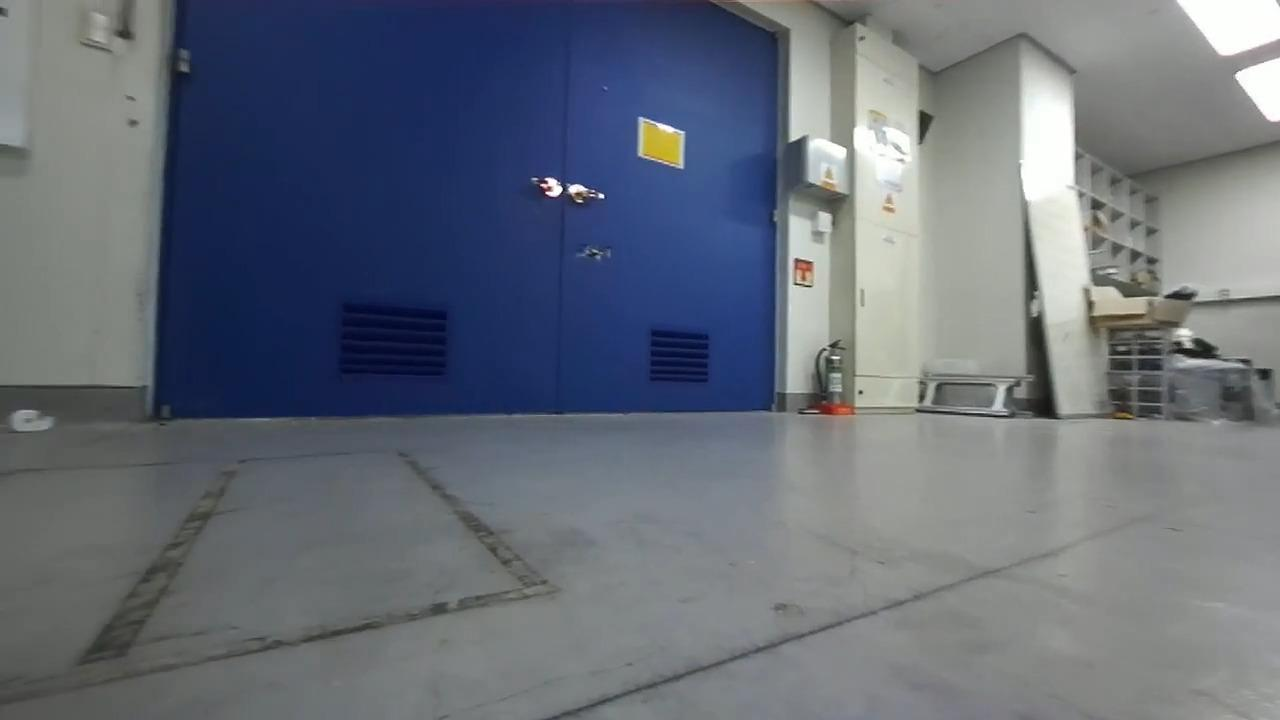crazyflie: (567, 237, 618, 266)
